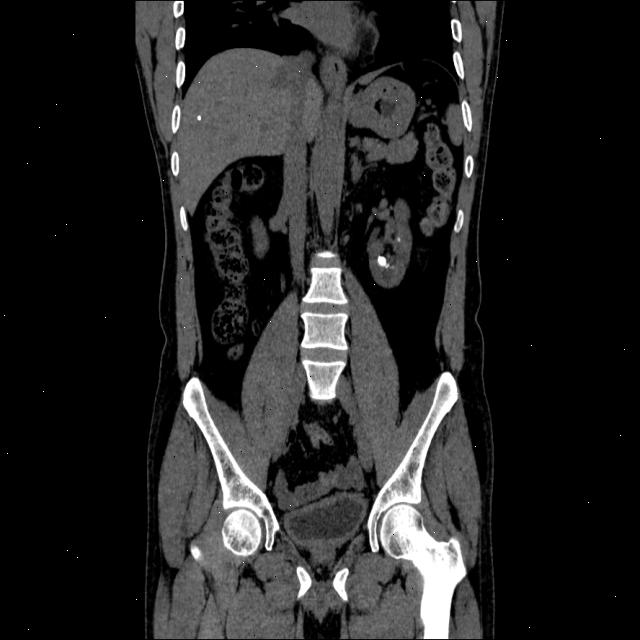kidneystone: (378, 256, 388, 267)
